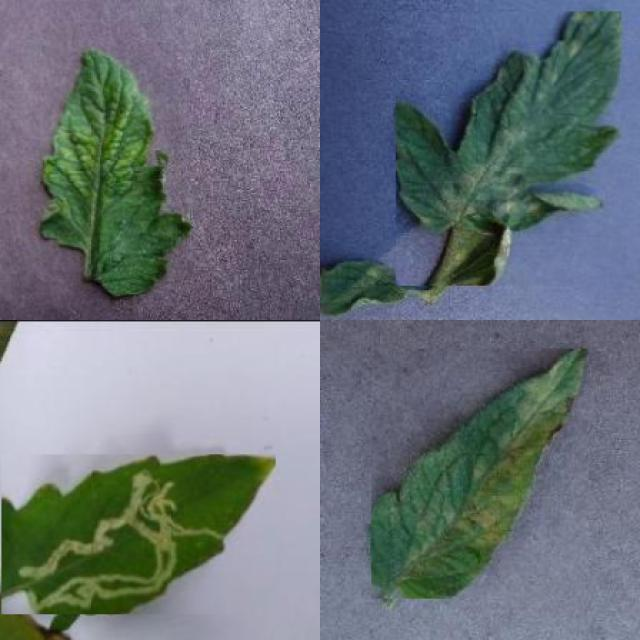Leaf Miner: (2, 455, 277, 615)
Leaf Mold: (396, 12, 621, 285), (372, 348, 588, 598)
Mosaic Virus: (40, 46, 190, 294)
